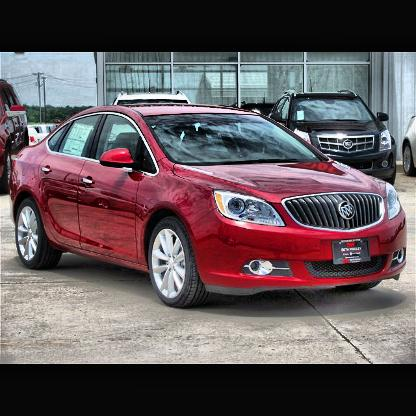Buick Verano Sedan 2012: (11, 105, 410, 314)
